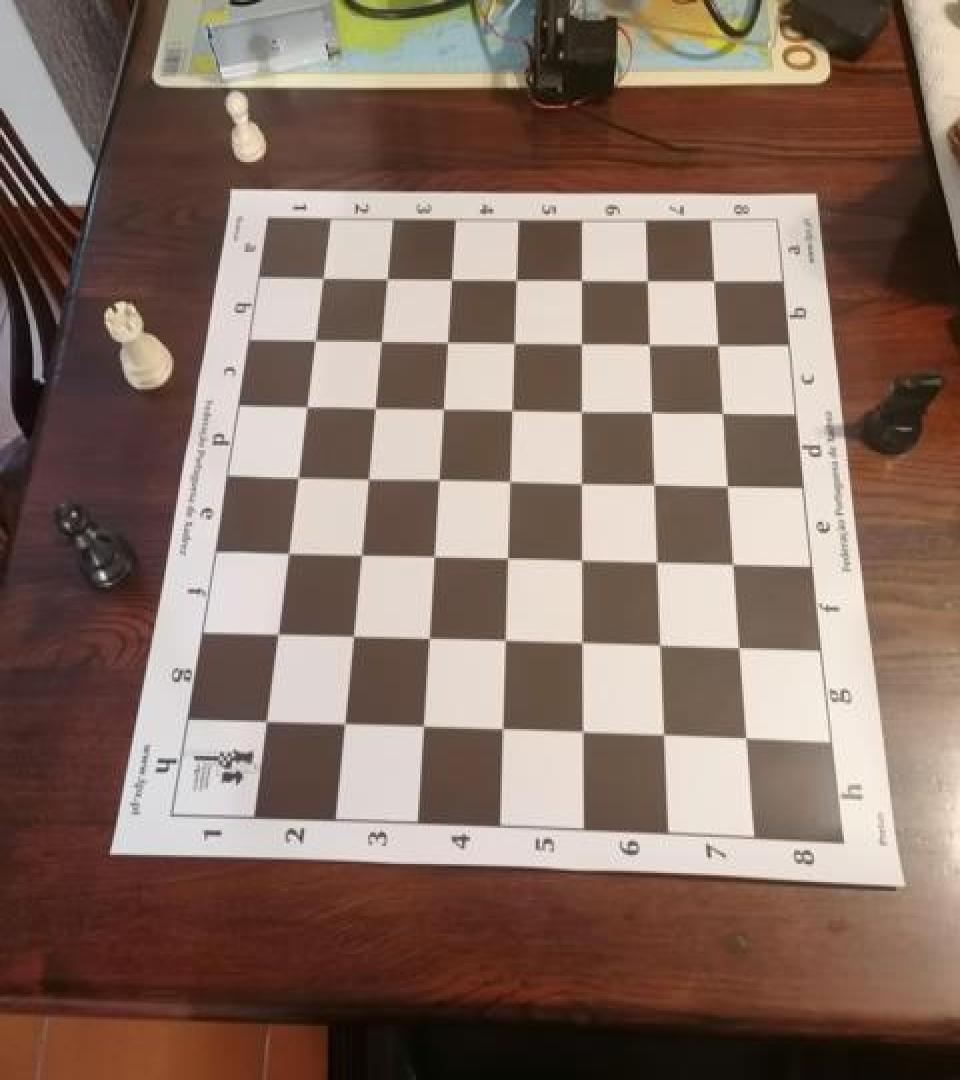xcorner: (701, 264, 729, 296), (634, 263, 662, 295), (568, 263, 596, 295), (503, 263, 531, 295), (439, 263, 467, 295), (375, 262, 403, 294), (311, 262, 339, 294), (706, 327, 734, 359), (637, 327, 665, 359), (569, 326, 597, 358), (501, 326, 529, 358), (434, 325, 462, 357), (368, 324, 396, 356), (303, 324, 331, 356), (711, 396, 739, 428), (430, 391, 458, 423), (362, 390, 390, 422), (294, 389, 322, 421), (716, 469, 744, 501), (642, 468, 670, 500), (425, 463, 453, 495), (355, 461, 383, 493), (285, 460, 313, 492), (569, 543, 597, 575), (494, 541, 522, 573), (420, 540, 448, 572), (275, 535, 303, 567), (728, 632, 756, 664), (648, 630, 676, 662), (492, 624, 520, 656), (415, 622, 443, 654), (264, 616, 292, 648), (734, 723, 762, 755), (651, 720, 679, 752), (489, 713, 517, 745), (409, 711, 437, 743), (253, 704, 281, 736), (639, 395, 667, 426), (569, 394, 597, 425), (499, 393, 527, 424), (569, 466, 597, 497), (497, 465, 525, 496), (722, 548, 750, 579), (645, 546, 673, 577), (347, 538, 375, 569), (569, 627, 597, 658), (339, 619, 367, 650), (570, 717, 598, 748), (330, 708, 358, 739)
